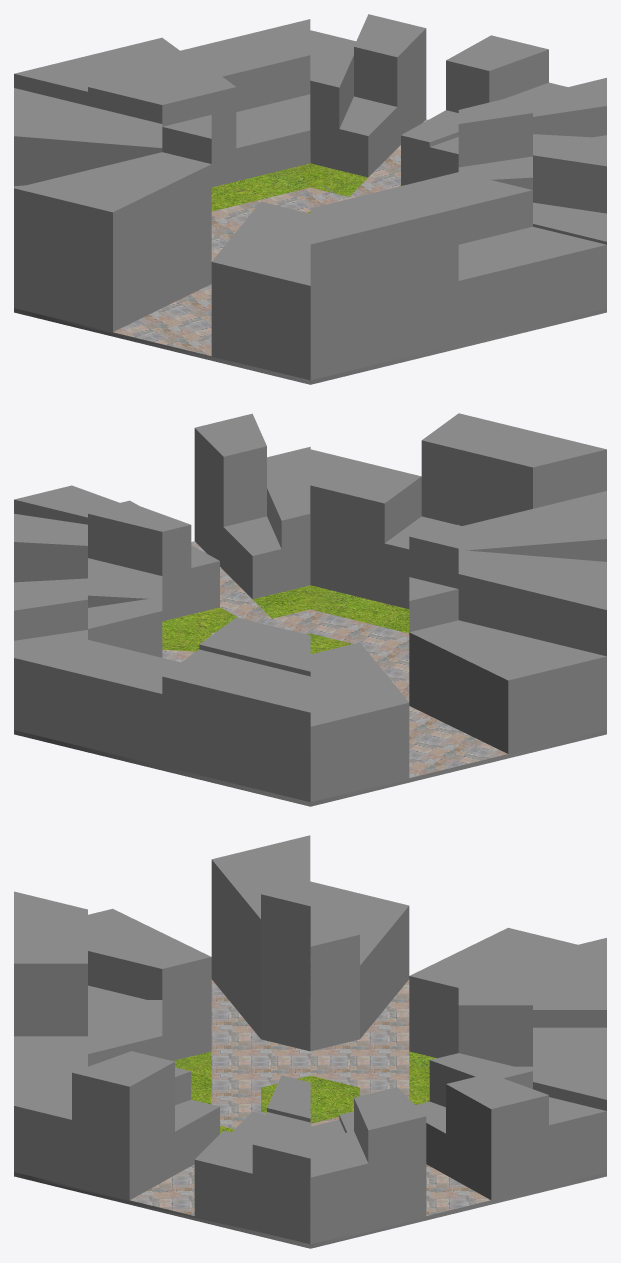
The picture shows the model from 3 angles, top to bottom: view 1: azimuth 30°, elevation 25°; view 2: azimuth 150°, elevation 25°; view 3: azimuth 270°, elevation 25°; orthographic projection.
Parts seen in each view (by area): view 1: Cylinder010; view 2: Cylinder010; view 3: Cylinder010.
Boxes of the visible parts, x1,y1,x2,y2 form: Cylinder010: (14,14,606,384); Cylinder010: (14,413,606,806); Cylinder010: (14,835,606,1248).
Bounding box in the file's own units: 140 × 33.74 × 121.
5 materials, 2 textured.
